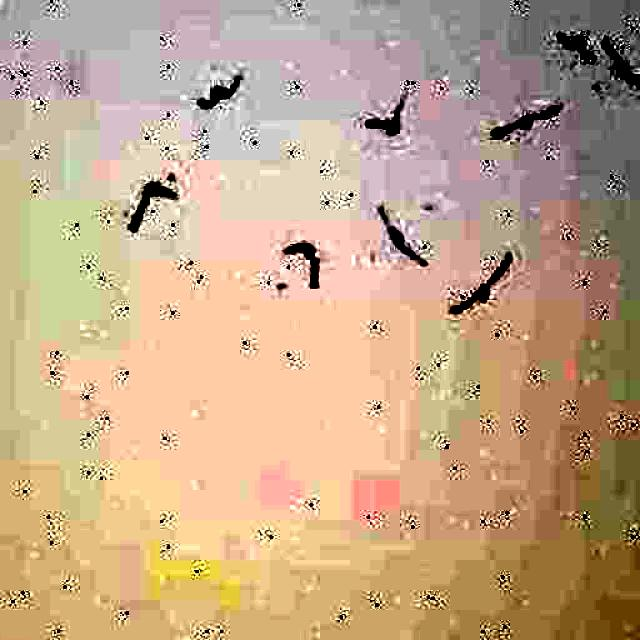airplane: (374, 204, 434, 264), (452, 254, 506, 316), (125, 175, 178, 235), (492, 100, 561, 144), (598, 38, 640, 101), (192, 71, 241, 115), (279, 239, 322, 289), (362, 96, 402, 136), (554, 32, 604, 64)
